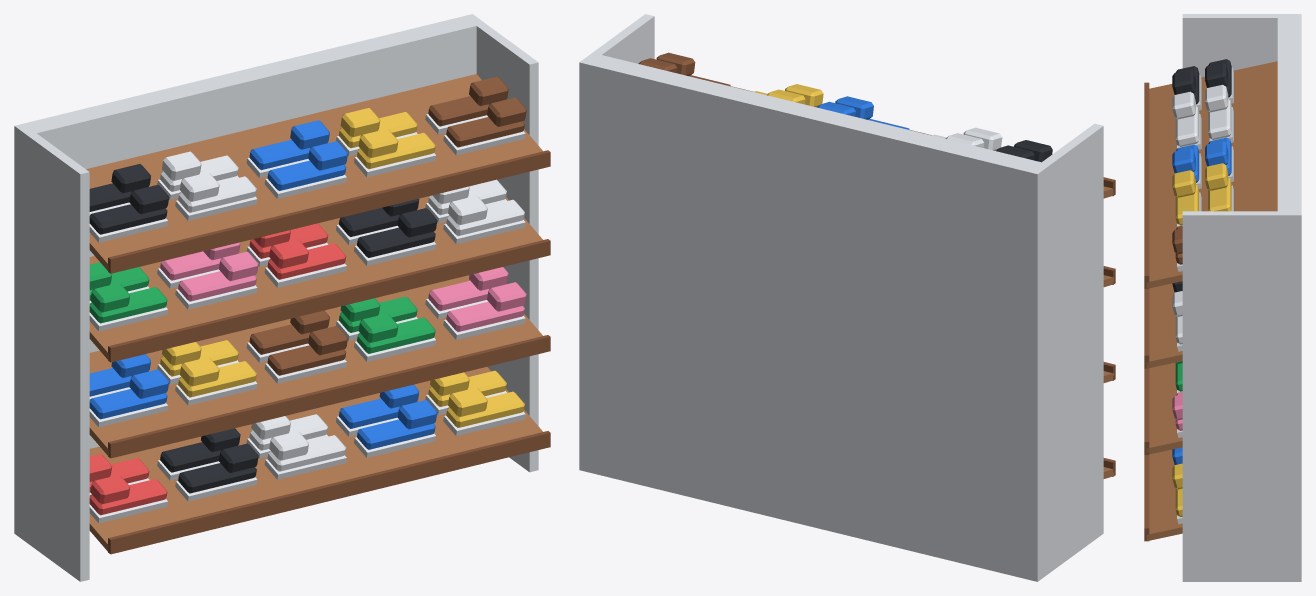
Rendered from shoe_rack.glb.
The picture shows the model from 3 angles, left to right: view 1: azimuth 30°, elevation 25°; view 2: azimuth 150°, elevation 25°; view 3: azimuth 270°, elevation 25°; orthographic projection. The views are drawn at different scales.
Parts seen in each view (by area): view 1: shoe_rack; view 2: shoe_rack; view 3: shoe_rack.
Part boxes in pixels (x1,y1,x2,y2): shoe_rack: (14,14,550,581); shoe_rack: (579,14,1115,581); shoe_rack: (1144,14,1301,581).
Bounding box in the file's own units: 2 × 1.7 × 0.66.
